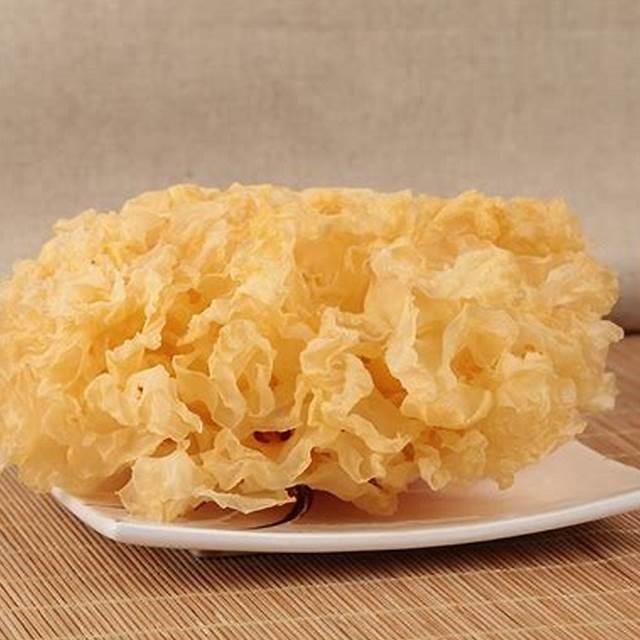food_waste: (0, 154, 639, 547)
